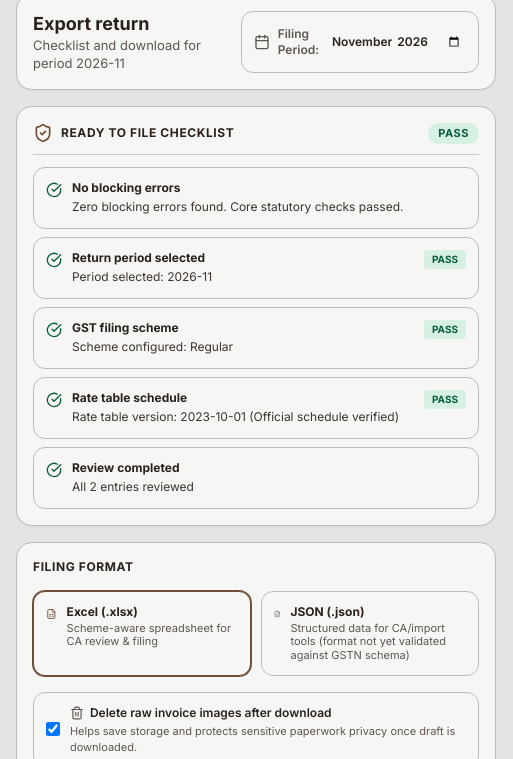
Test case: ExportScreen (Screen 4 UI Spec) › supports format selection and delete source images toggle
Select JSON format
Click the radio button labelled "JSON (.json)" at [370, 633], box [261,590,479,676]
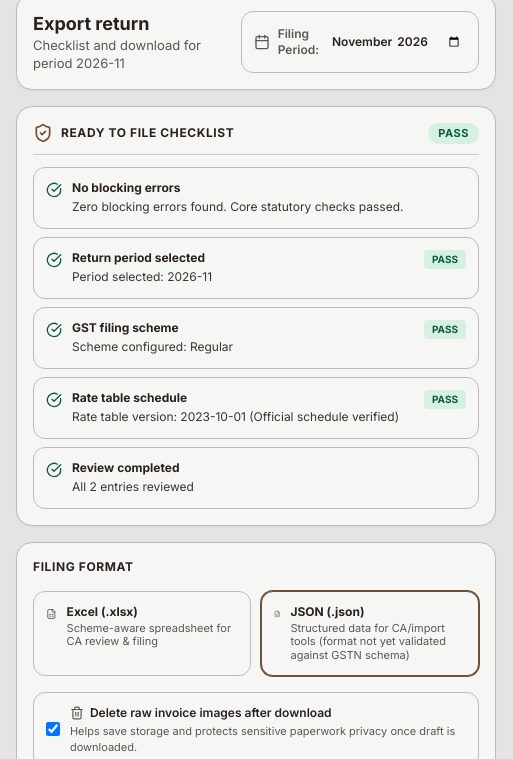
Check: the radio button labelled "JSON (.json)" is checked, box [261,590,479,676]
Click the checkbox labelled "Delete raw invoice images after download" at [53, 729], box [46,707,60,751]
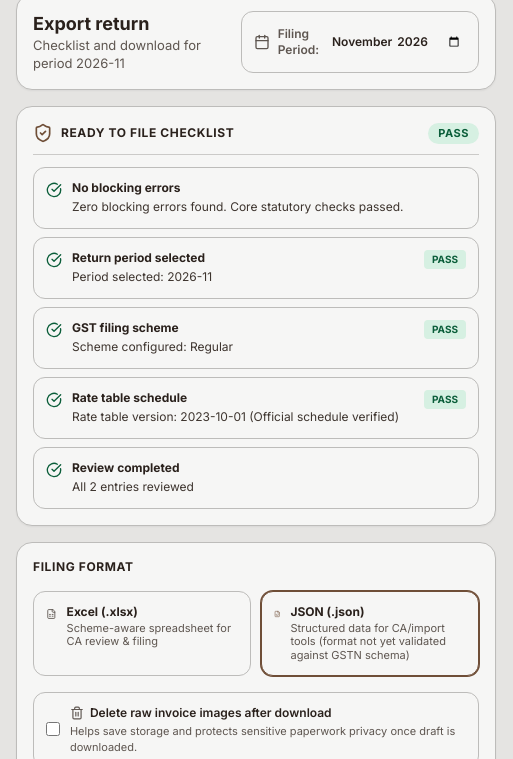
Check: the checkbox labelled "Delete raw invoice images after download" is not checked
Click the checkbox labelled "Delete raw invoice images after download" at [53, 729], box [46,707,60,751]
(page scrolled)
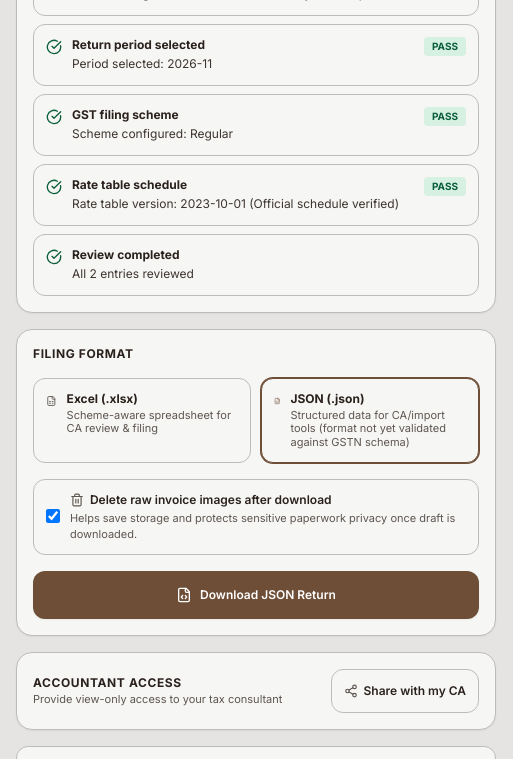
Check: the checkbox labelled "Delete raw invoice images after download" is checked, box [46,494,60,538]
Now button should say Download JSON Return
Click the button "Download JSON Return" at [256, 595], box [33,571,479,619]
(page scrolled)
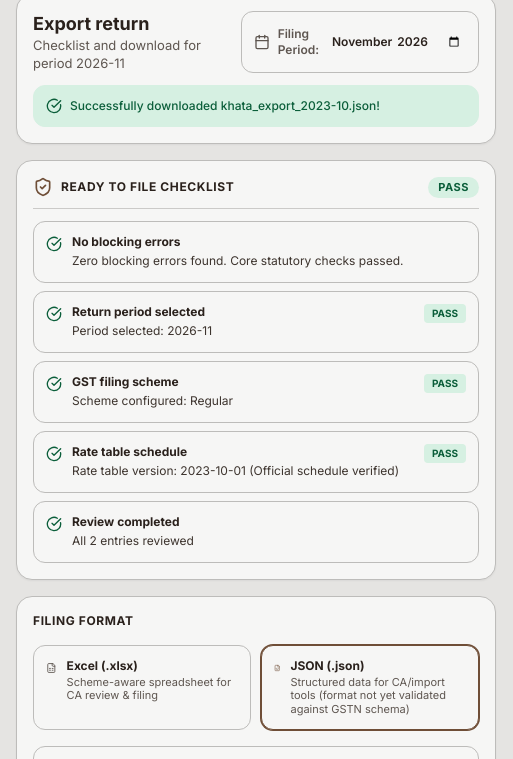
Check: the text "Successfully downloaded khata_export_2023-10.json!" is shown, box [70,98,380,114]
